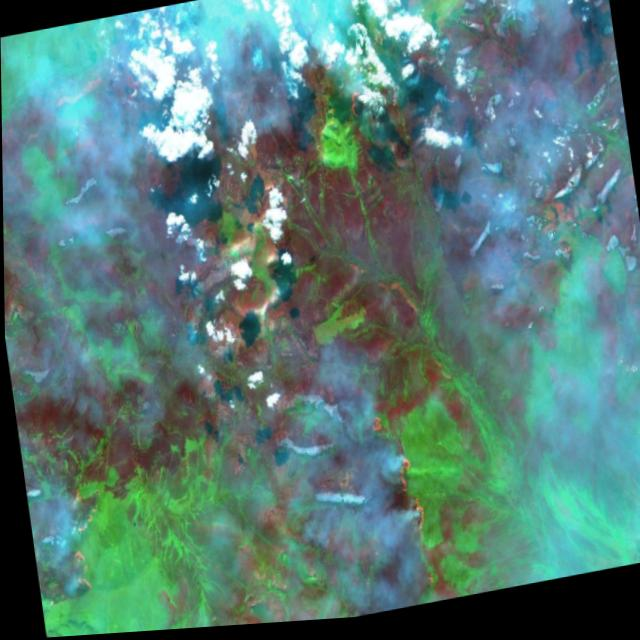fire: (347, 393, 456, 619), (29, 431, 132, 618)
